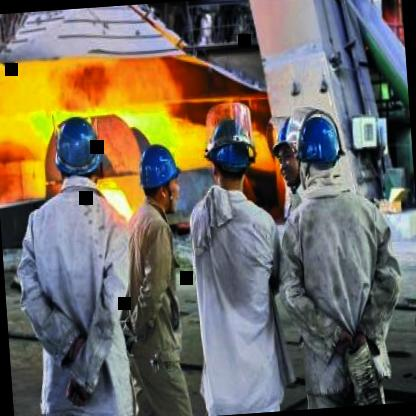helmet: (292, 108, 348, 202), (47, 119, 104, 188), (138, 135, 183, 213), (205, 121, 253, 192), (268, 116, 308, 184)
